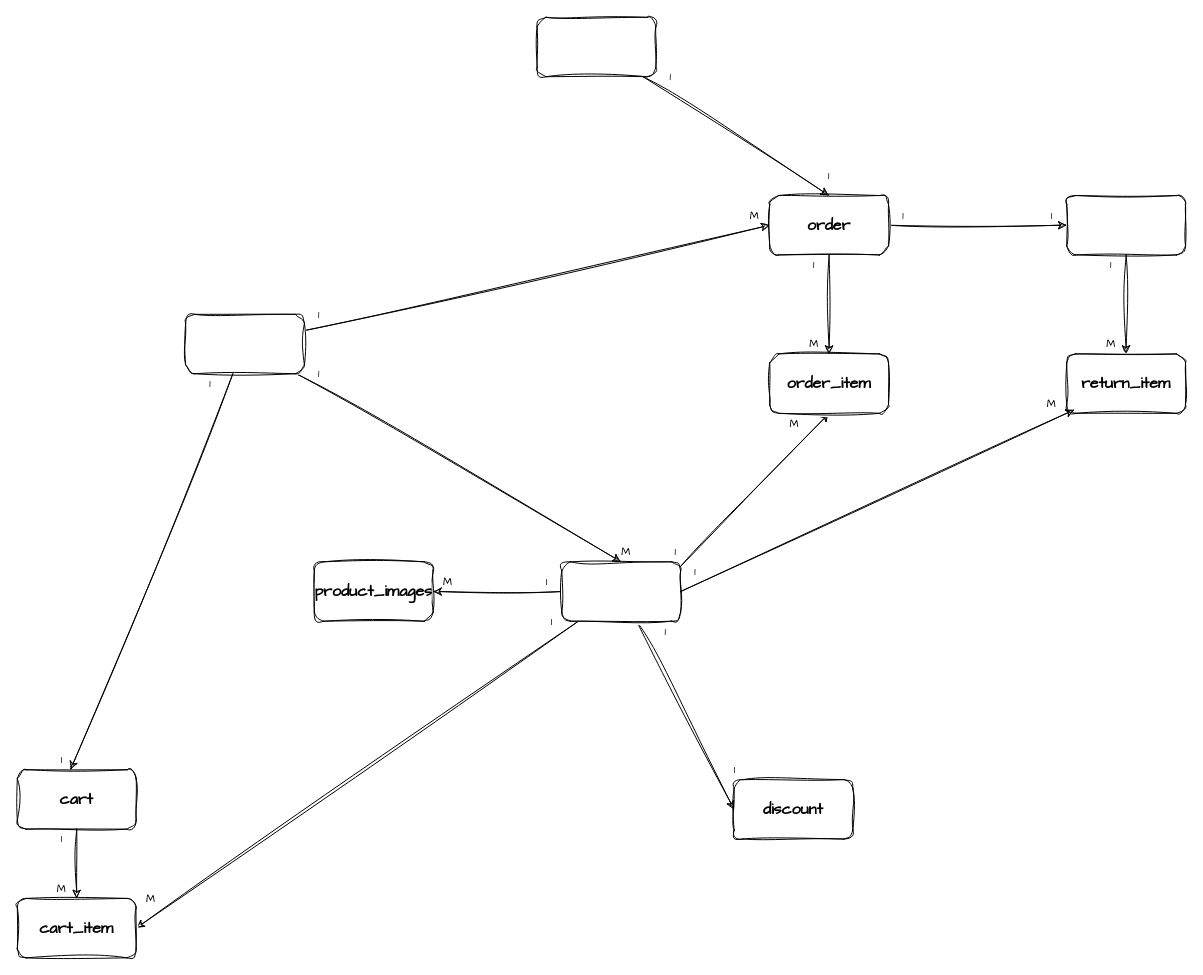
Some shapes in this 1203 by 975 pixel diagram are drawn without their labels. Here are the shapes that lost their labels. From the top down, the box of each, then its label:
(536, 16, 656, 77): invoice
(1066, 195, 1186, 255): return_request
(185, 313, 304, 374): user
(561, 561, 681, 621): product
